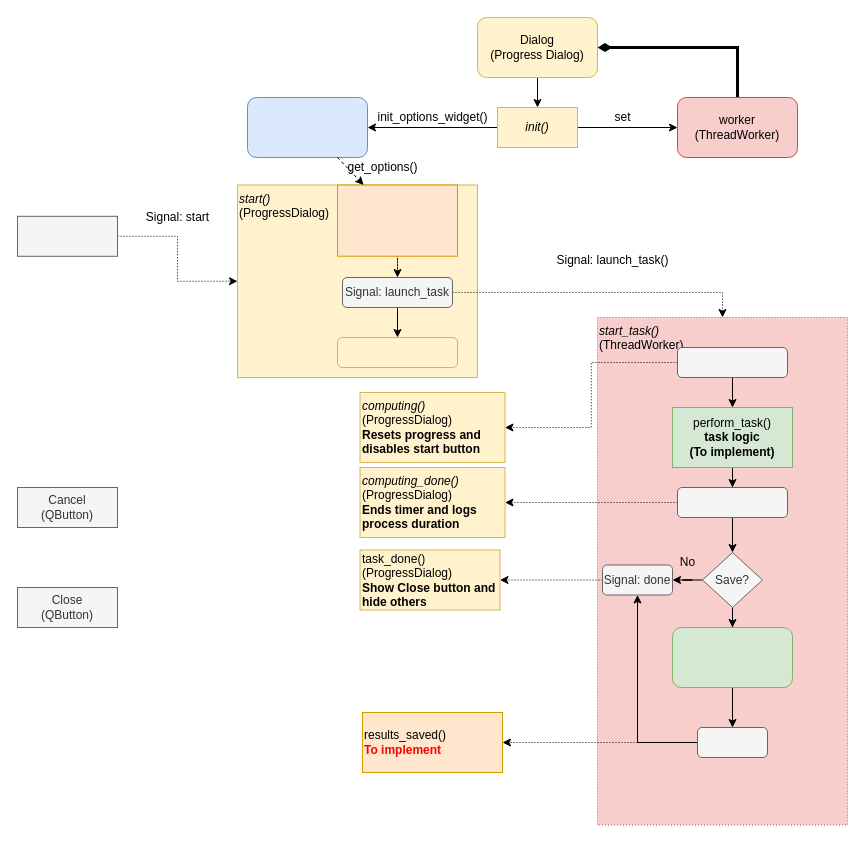
Image size: 865x851. Some labels were removed from this diagram. The shapes that lost their labels are listed below. From the top down, each one's centre as x and y in pixels, then its label:
At point 307,127: "options (QWidget)".
At point 67,235: "Start (QButton)".
At point 397,220: "init_task() Load options (To implement if all options are not properly loaded)".
At point 397,352: "Timer initiatisation".
At point 732,362: "Signal: computing".
At point 732,502: "Signal: computing_done".
At point 732,657: "save_results() saving logic (To implement)".
At point 732,742: "Signal: saved".
